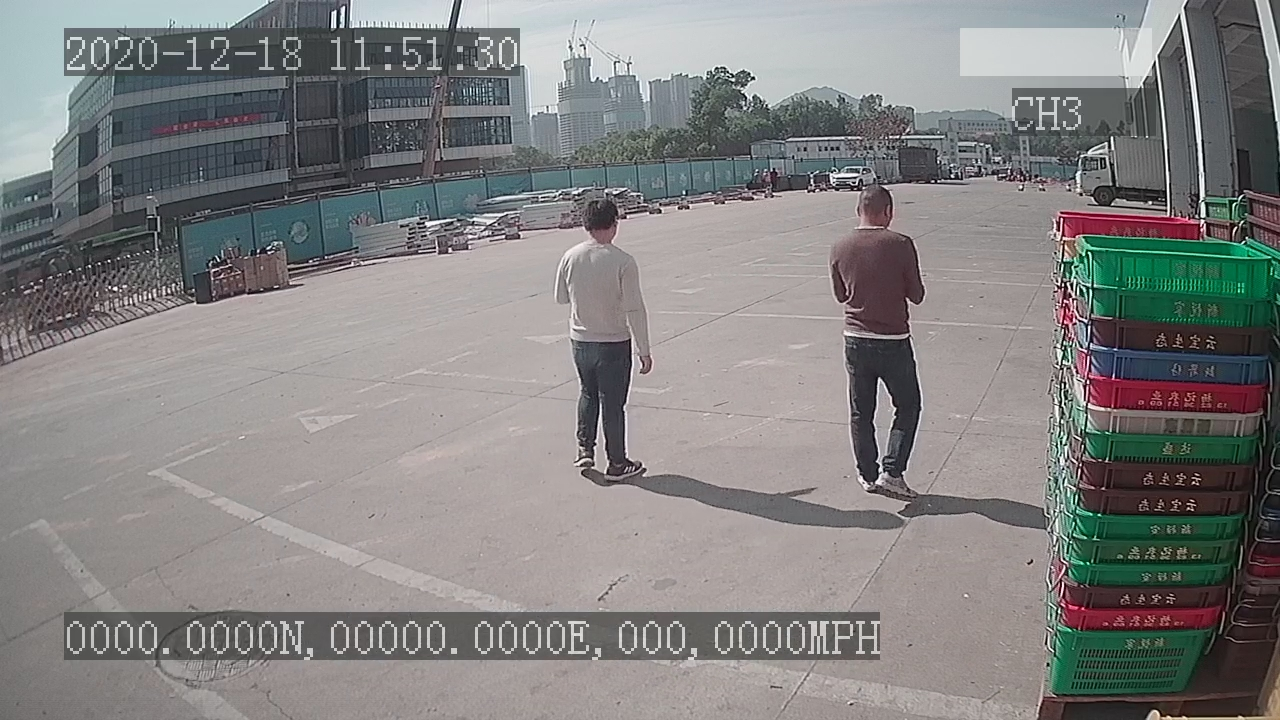person: (824, 179, 936, 508), (549, 194, 658, 485)
